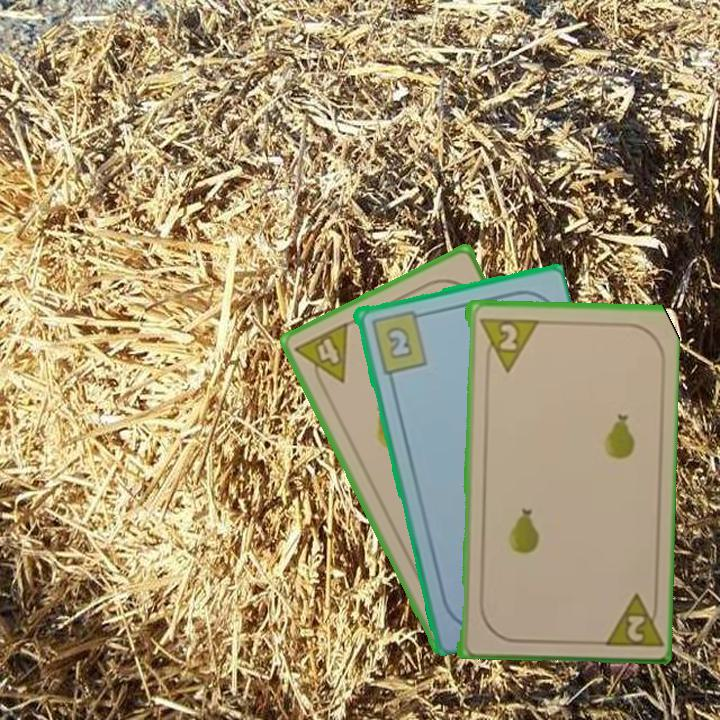2b: (367, 306, 430, 376)
2p: (597, 588, 662, 650), (475, 314, 538, 374)
4p: (291, 318, 352, 395)
